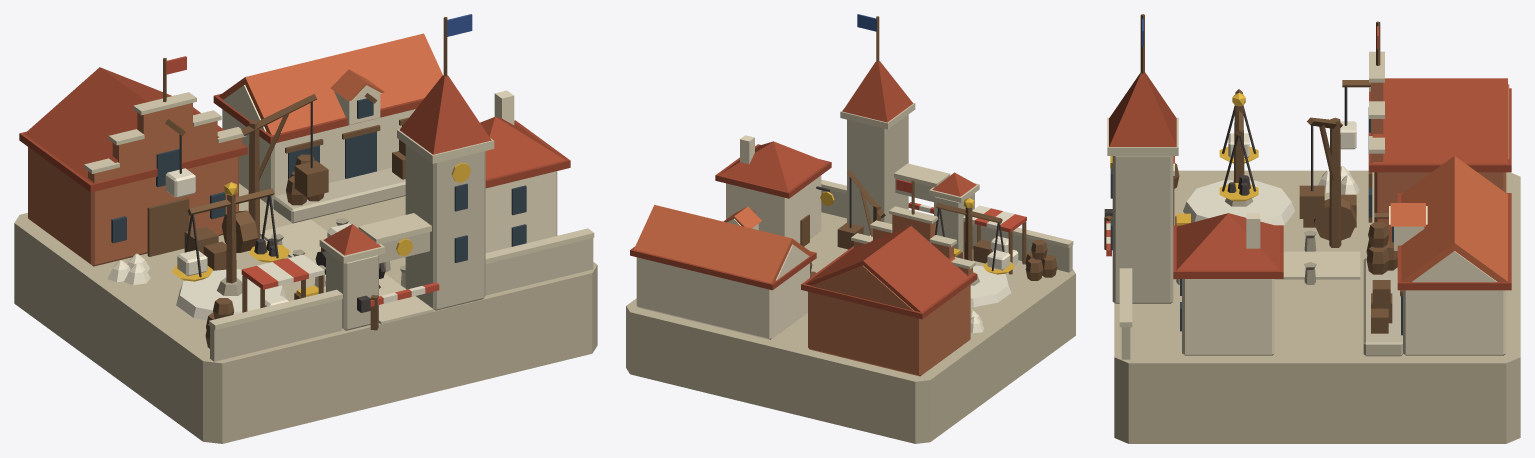
Rendered from ns-customs-house.glb.
3 renders of one model, left to right at view 1: azimuth 30°, elevation 25°; view 2: azimuth 150°, elevation 25°; view 3: azimuth 270°, elevation 25°, orthographic. The views are drawn at different scales.
Parts seen in each view (by area): view 1: GW prism, Cube.023, Cube.005, GW gable.001, GW gable, Cube.038, Cube.016, Cube.052, GW solid, Cube.018, Cube.040, GW hip.001 (+34 smaller); view 2: GW prism, Cube.023, Cube.038, GW gable.001, GW gable, Cube.005, Cube.052, GW hip.001, GW solid, GW gable wall.001, Cube.024, Cube.039 (+12 smaller); view 3: GW prism, GW gable, GW gable.001, Cube.005, Cube.052, Cube.038, GW hip.001, GW solid, GW solid.013, Cube.040, Cube, Cube.023 (+19 smaller).
Boxes of the visible parts, x1,y1,x2,y2 form: GW prism: (14, 184, 597, 443); Cube.023: (28, 147, 238, 266); Cube.005: (405, 144, 485, 310); GW gable.001: (219, 33, 442, 135); GW gable: (24, 67, 220, 183); Cube.038: (222, 109, 415, 208); Cube.016: (210, 299, 342, 361); Cube.052: (485, 171, 557, 252); GW solid: (400, 75, 491, 154); Cube.018: (485, 238, 593, 295); Cube.040: (273, 168, 405, 223); GW hip.001: (480, 116, 565, 179); GW prism: (626, 212, 1075, 443); Cube.023: (808, 284, 970, 376); Cube.038: (636, 257, 809, 339); GW gable.001: (634, 205, 812, 283); GW gable: (805, 226, 973, 312); Cube.005: (847, 114, 908, 235); Cube.052: (726, 175, 821, 243); GW hip.001: (719, 141, 827, 191); GW solid: (842, 61, 913, 122); GW gable wall.001: (812, 265, 913, 310); Cube.024: (801, 246, 977, 319); Cube.039: (630, 247, 816, 290); GW prism: (1114, 170, 1520, 443); GW gable: (1372, 78, 1507, 163); GW gable.001: (1401, 156, 1507, 281); Cube.005: (1112, 156, 1173, 303); Cube.052: (1182, 279, 1274, 355); Cube.038: (1403, 290, 1506, 355); GW hip.001: (1176, 213, 1279, 270); GW solid: (1109, 72, 1176, 146); GW solid.013: (1183, 180, 1294, 225); Cube.040: (1363, 258, 1402, 356); Cube: (1173, 251, 1360, 279); Cube.023: (1374, 172, 1506, 241).
Bounding box in the file's own units: 1.28 × 1.11 × 1.17.
